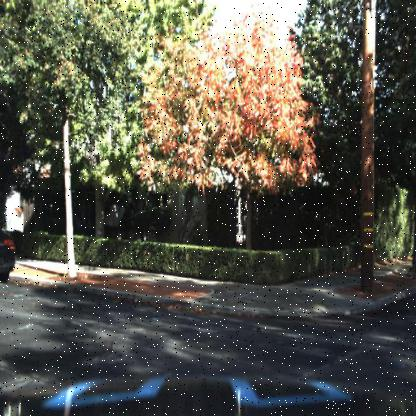car: (0, 210, 17, 298), (0, 213, 17, 292)
